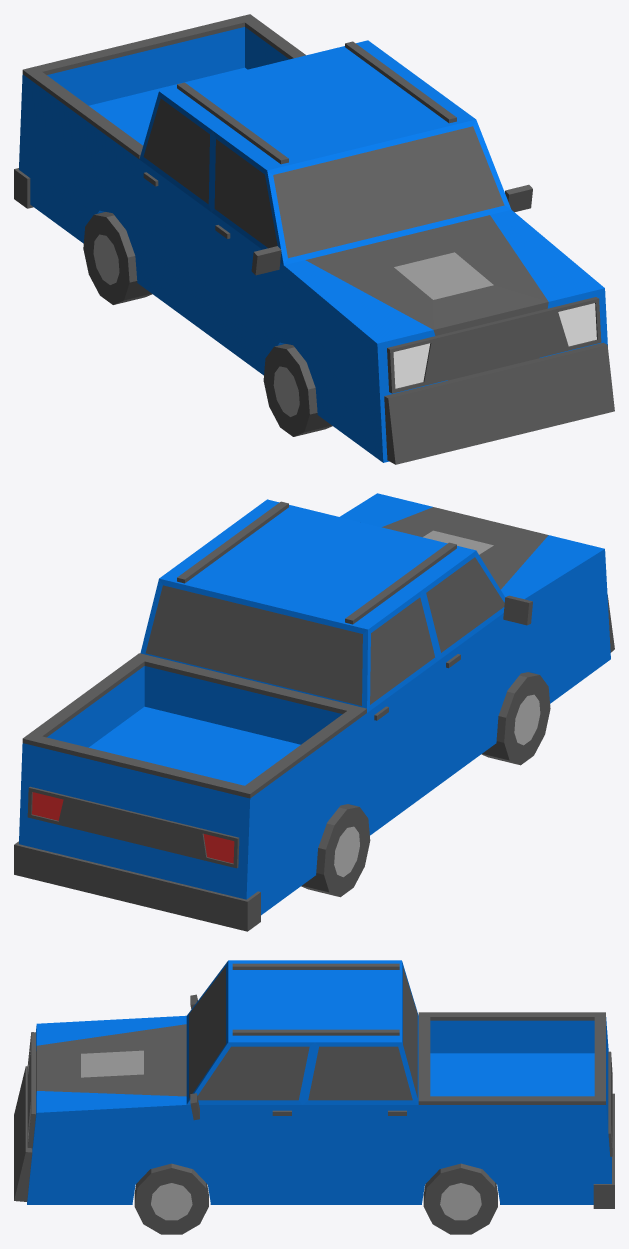
The model's file is SM_Car_03_05.FBX.
3 views of the same model, one above another, from view 1: azimuth 30°, elevation 25°; view 2: azimuth 150°, elevation 25°; view 3: azimuth 270°, elevation 25° (orthographic). The views are drawn at different scales.
Parts seen in each view (by area): view 1: SM_Car_03_05, SM_Wheel_LFront001, SM_Wheel_RBack001; view 2: SM_Car_03_05, SM_Wheel_RBack001, SM_Wheel_LFront001; view 3: SM_Car_03_05, SM_Wheel_LBack001, SM_Wheel_LFront002.
Boxes of the visible parts, x1,y1,x2,y2 form: SM_Car_03_05: (14,14,614,464); SM_Wheel_LFront001: (263,344,332,436); SM_Wheel_RBack001: (83,212,152,304); SM_Car_03_05: (14,493,614,931); SM_Wheel_RBack001: (301,804,370,897); SM_Wheel_LFront001: (481,672,550,765); SM_Car_03_05: (14,960,614,1208); SM_Wheel_LBack001: (423,1163,497,1234); SM_Wheel_LFront002: (134,1163,208,1234).
Size of the model in its own units: 1.7 by 1.39 by 4.
1 material, 1 textured.
